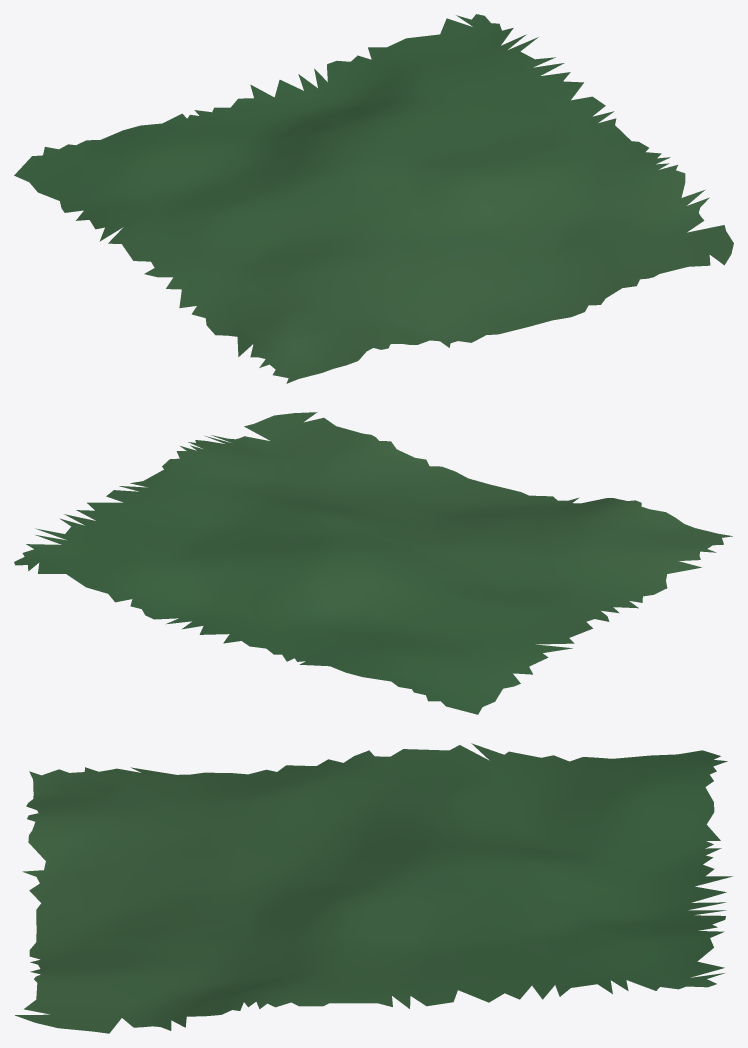
The model's file is payo_land_x0_y8_lod1.glb.
3 views of the same model, one above another, from view 1: azimuth 30°, elevation 25°; view 2: azimuth 150°, elevation 25°; view 3: azimuth 270°, elevation 25° (orthographic). The views are drawn at different scales.
Visible parts, largest first — view 1: payo_land_x0_y8; view 2: payo_land_x0_y8; view 3: payo_land_x0_y8.
Part boxes in pixels (x1,y1,x2,y2): payo_land_x0_y8: (14,14,733,383); payo_land_x0_y8: (14,412,732,714); payo_land_x0_y8: (15,743,732,1033).
Size of the model in its own units: 272 by 33.82 by 271.
